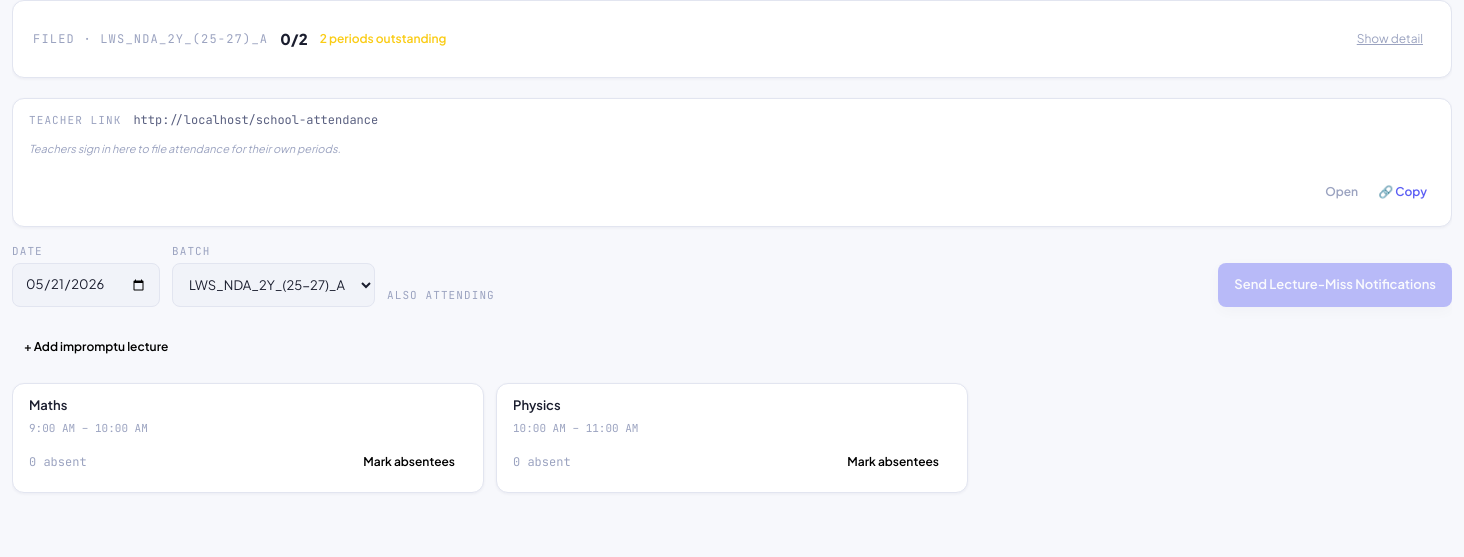
Test: LectureLogTab — impromptu (ad-hoc) lectures › adds an impromptu lecture card with the entered subject
Click the button "+ Add impromptu lecture": click(96, 347) [12,327,180,367]
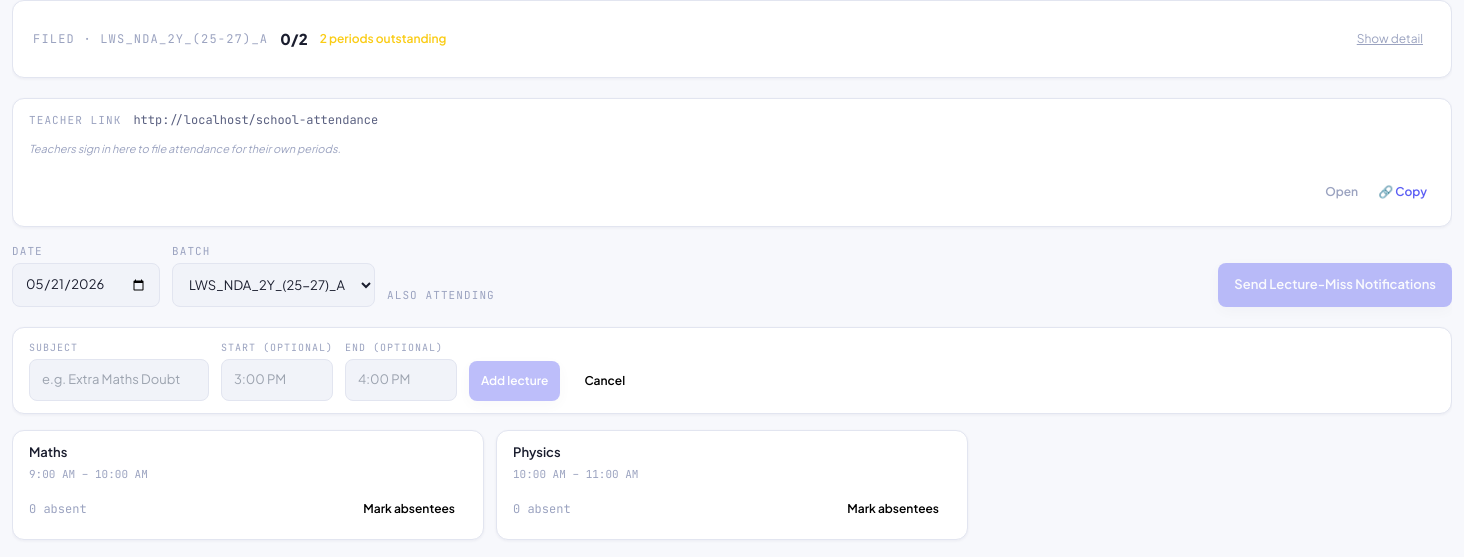
In the field labelled "Subject": (119, 380) [29,359,209,400], type "Extra Maths Doubt"
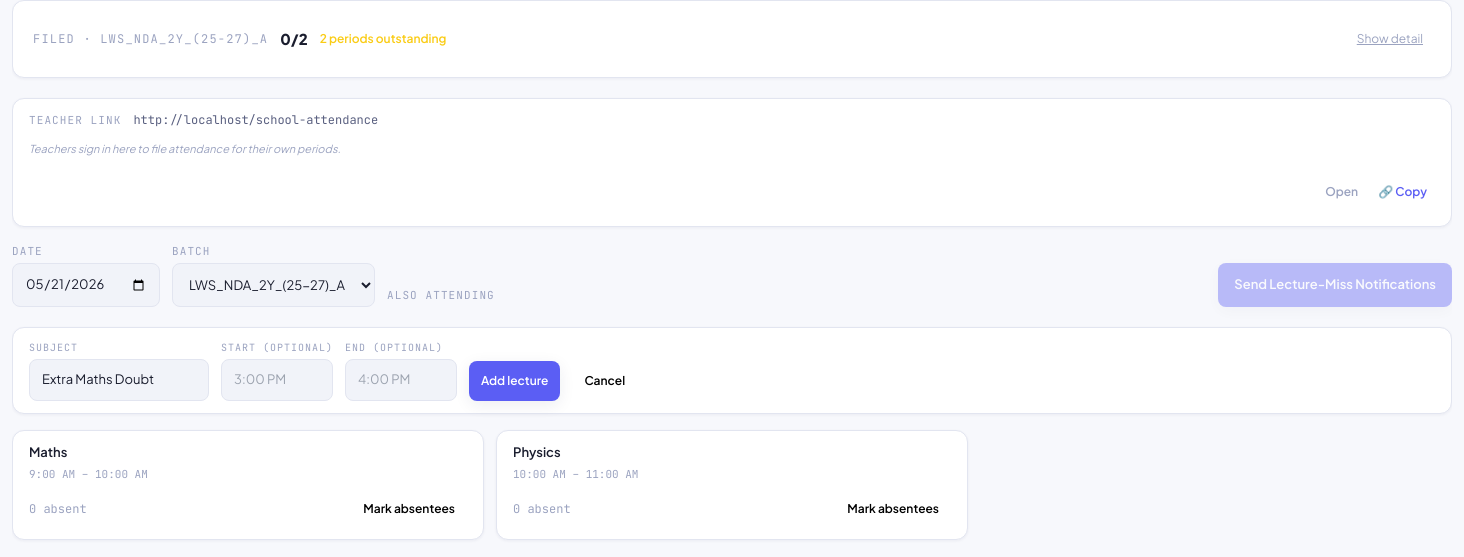
Click the button "Add lecture": click(515, 380) [469,360,560,400]
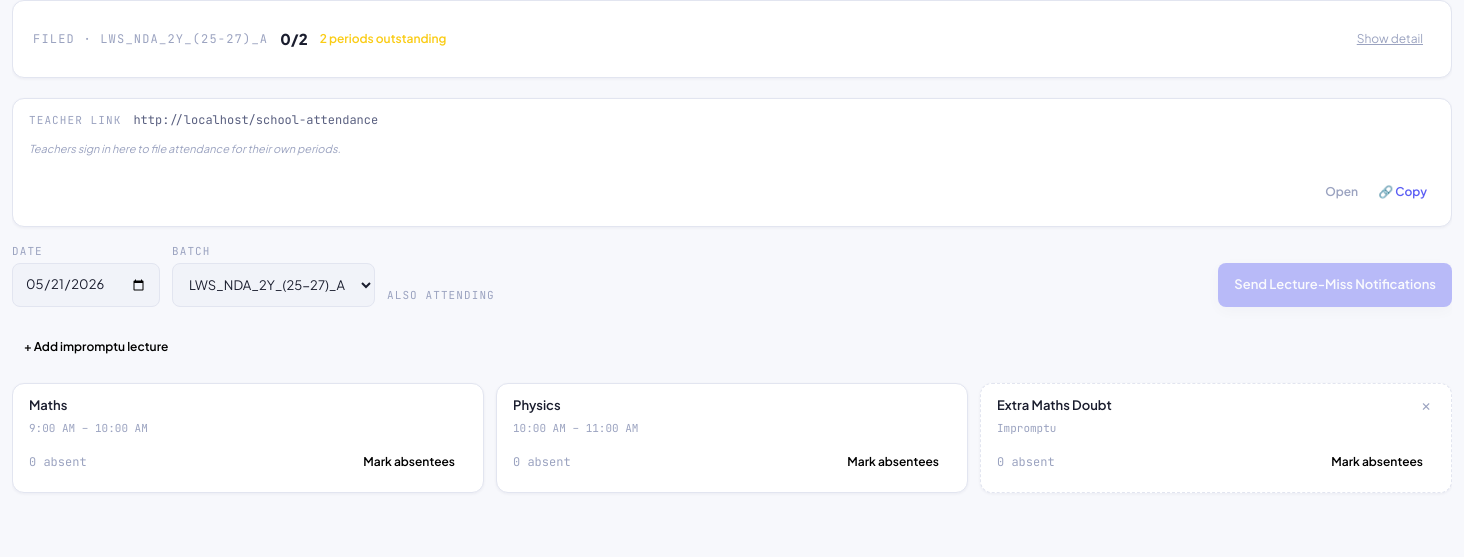
Now the text "Extra Maths Doubt" is shown, box [997,396,1112,416]
